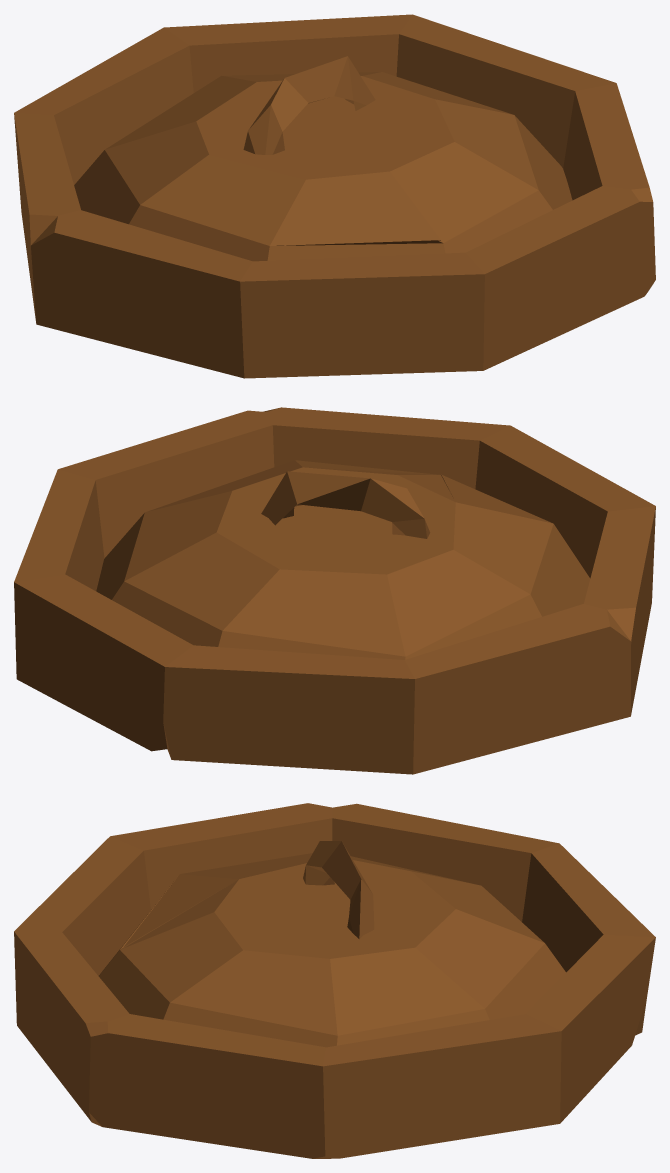
Rendered from Steam_Basket_Lid.fbx.
The picture shows the model from 3 angles, top to bottom: view 1: azimuth 30°, elevation 25°; view 2: azimuth 150°, elevation 25°; view 3: azimuth 270°, elevation 25°; orthographic projection. The views are drawn at different scales.
Visible parts, largest first — view 1: Cylinder.016; view 2: Cylinder.016; view 3: Cylinder.016.
Part boxes in pixels (x1,y1,x2,y2): Cylinder.016: [14, 14, 655, 378]; Cylinder.016: [14, 407, 655, 774]; Cylinder.016: [14, 803, 655, 1158].
Bounding box in the file's own units: 208 × 62.8 × 207.
